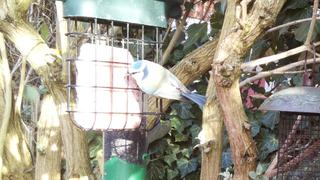blue tit: (126, 59, 208, 107)
